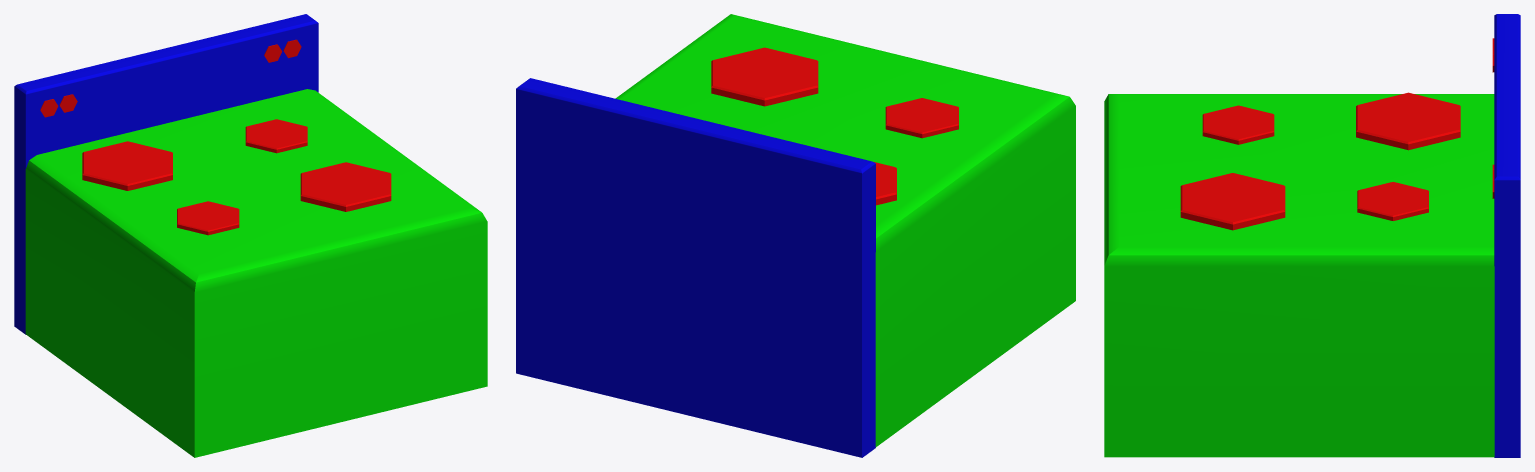
File: Stove.fbx
3 renders of one model, left to right at view 1: azimuth 30°, elevation 25°; view 2: azimuth 150°, elevation 25°; view 3: azimuth 270°, elevation 25°, orthographic. The views are drawn at different scales.
Visible parts, largest first — view 1: pCube1; view 2: pCube1; view 3: pCube1.
Boxes of the visible parts, bbox=[...] form: pCube1: bbox=[14, 14, 487, 457]; pCube1: bbox=[516, 14, 1075, 457]; pCube1: bbox=[1104, 14, 1520, 457].
Bounding box in the file's own units: 83.71 × 66.3 × 89.29.
